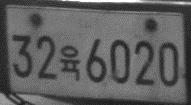0: (109, 39, 131, 84), (158, 41, 179, 87)
2: (34, 34, 58, 80), (133, 40, 155, 86)
3: (10, 34, 33, 79)
6: (85, 38, 106, 83)
육: (59, 44, 82, 83)
